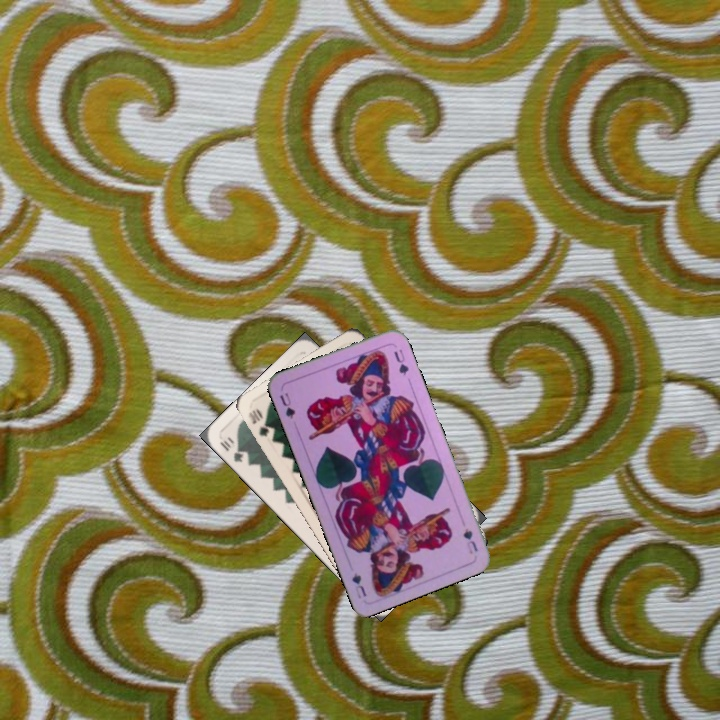G10: (244, 404, 277, 440), (216, 436, 246, 465)
GU: (276, 389, 298, 421), (459, 524, 480, 557)
